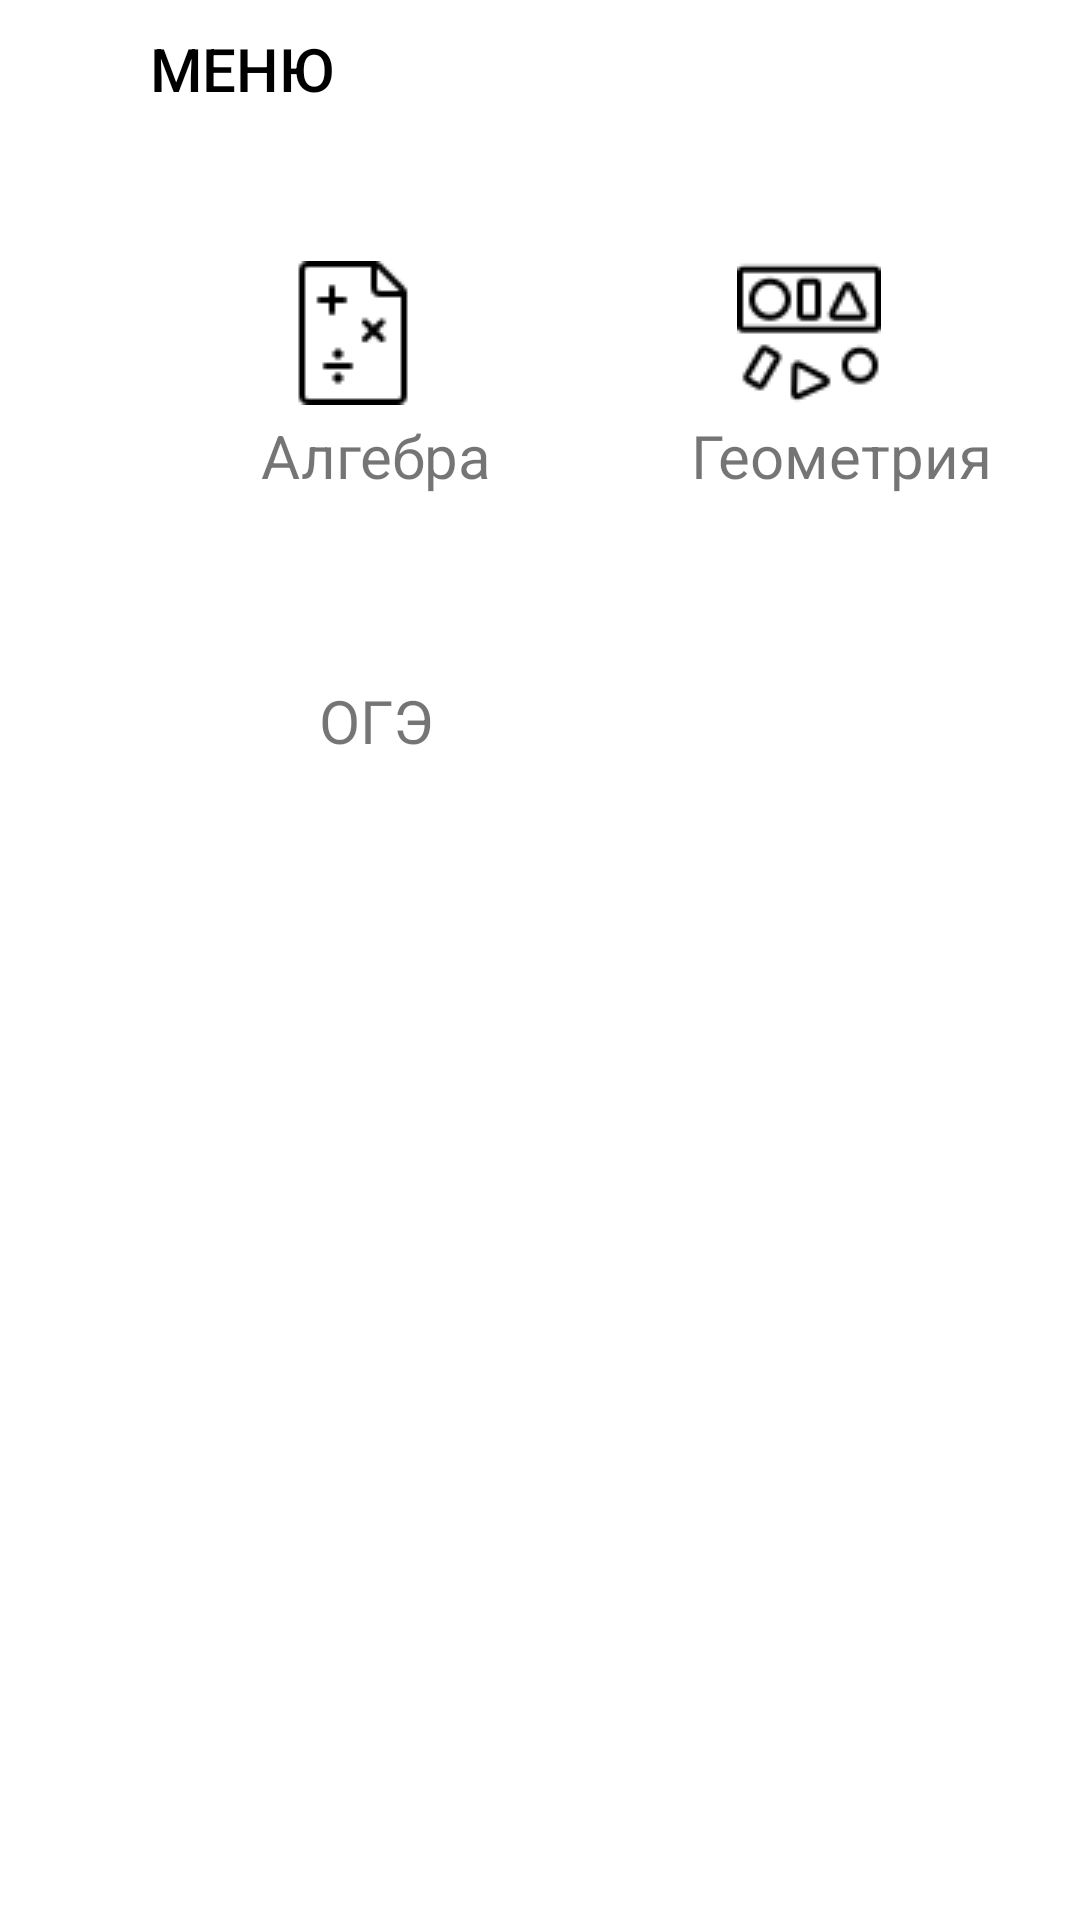

Screen size 1080x1920. Icon name, then its box in pixels as (x1, y1, x2, y2):
math: (298, 261, 408, 405)
